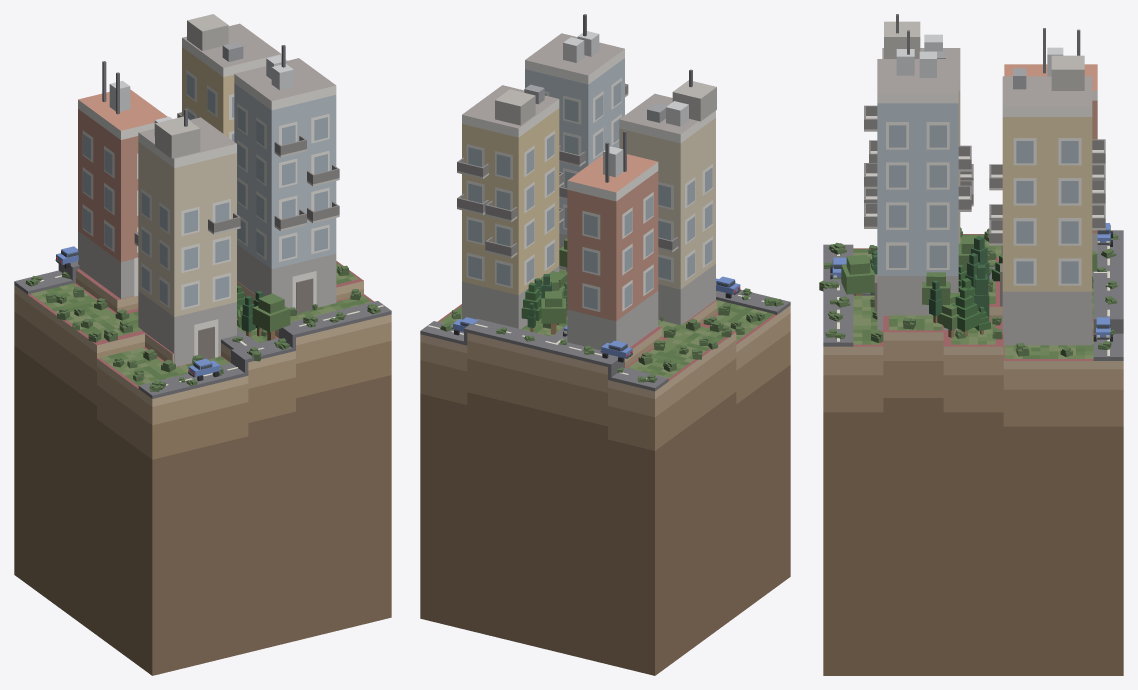
The model's file is block_24_engineered_30.glb.
The picture shows the model from 3 angles, left to right: view 1: azimuth 30°, elevation 25°; view 2: azimuth 150°, elevation 25°; view 3: azimuth 270°, elevation 25°; orthographic projection. The views are drawn at different scales.
Parts seen in each view (by area): view 1: Patch_UpperRight_b24_ES, ResidBldgs_b24_ES, Roads_UpperRight_b24_ES, Green_UpperRight_b24_ES, URTree_24_17_ES; view 2: Patch_UpperRight_b24_ES, ResidBldgs_b24_ES, Roads_UpperRight_b24_ES, Green_UpperRight_b24_ES, URTree_24_0_ES; view 3: Patch_UpperRight_b24_ES, ResidBldgs_b24_ES, Roads_UpperRight_b24_ES, Green_UpperRight_b24_ES, URTree_24_17_ES, URTree_24_28_ES, URTree_24_25_ES, URTree_24_19_ES, URTree_24_20_ES.
Boxes of the visible parts, box(x1,y1,x2,y2) form: Patch_UpperRight_b24_ES: box(14, 261, 391, 675); ResidBldgs_b24_ES: box(78, 14, 339, 366); Roads_UpperRight_b24_ES: box(14, 261, 391, 398); Green_UpperRight_b24_ES: box(31, 262, 371, 385); URTree_24_17_ES: box(252, 293, 290, 340); Patch_UpperRight_b24_ES: box(420, 300, 790, 675); ResidBldgs_b24_ES: box(457, 14, 716, 350); Roads_UpperRight_b24_ES: box(420, 290, 790, 391); Green_UpperRight_b24_ES: box(439, 269, 773, 378); URTree_24_0_ES: box(541, 291, 566, 334); Patch_UpperRight_b24_ES: box(823, 234, 1123, 675); ResidBldgs_b24_ES: box(864, 14, 1105, 345); Roads_UpperRight_b24_ES: box(823, 230, 1123, 360); Green_UpperRight_b24_ES: box(853, 234, 1093, 358); URTree_24_17_ES: box(841, 255, 874, 295); URTree_24_28_ES: box(952, 287, 981, 336); URTree_24_25_ES: box(922, 272, 950, 304); URTree_24_19_ES: box(974, 264, 989, 317); URTree_24_20_ES: box(937, 302, 959, 337).
Size of the model in its own units: 9.61 by 21.24 by 9.63.
